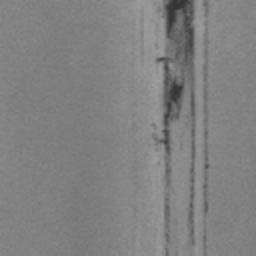Slag inclusion: (156, 0, 198, 256), (202, 0, 210, 253)
